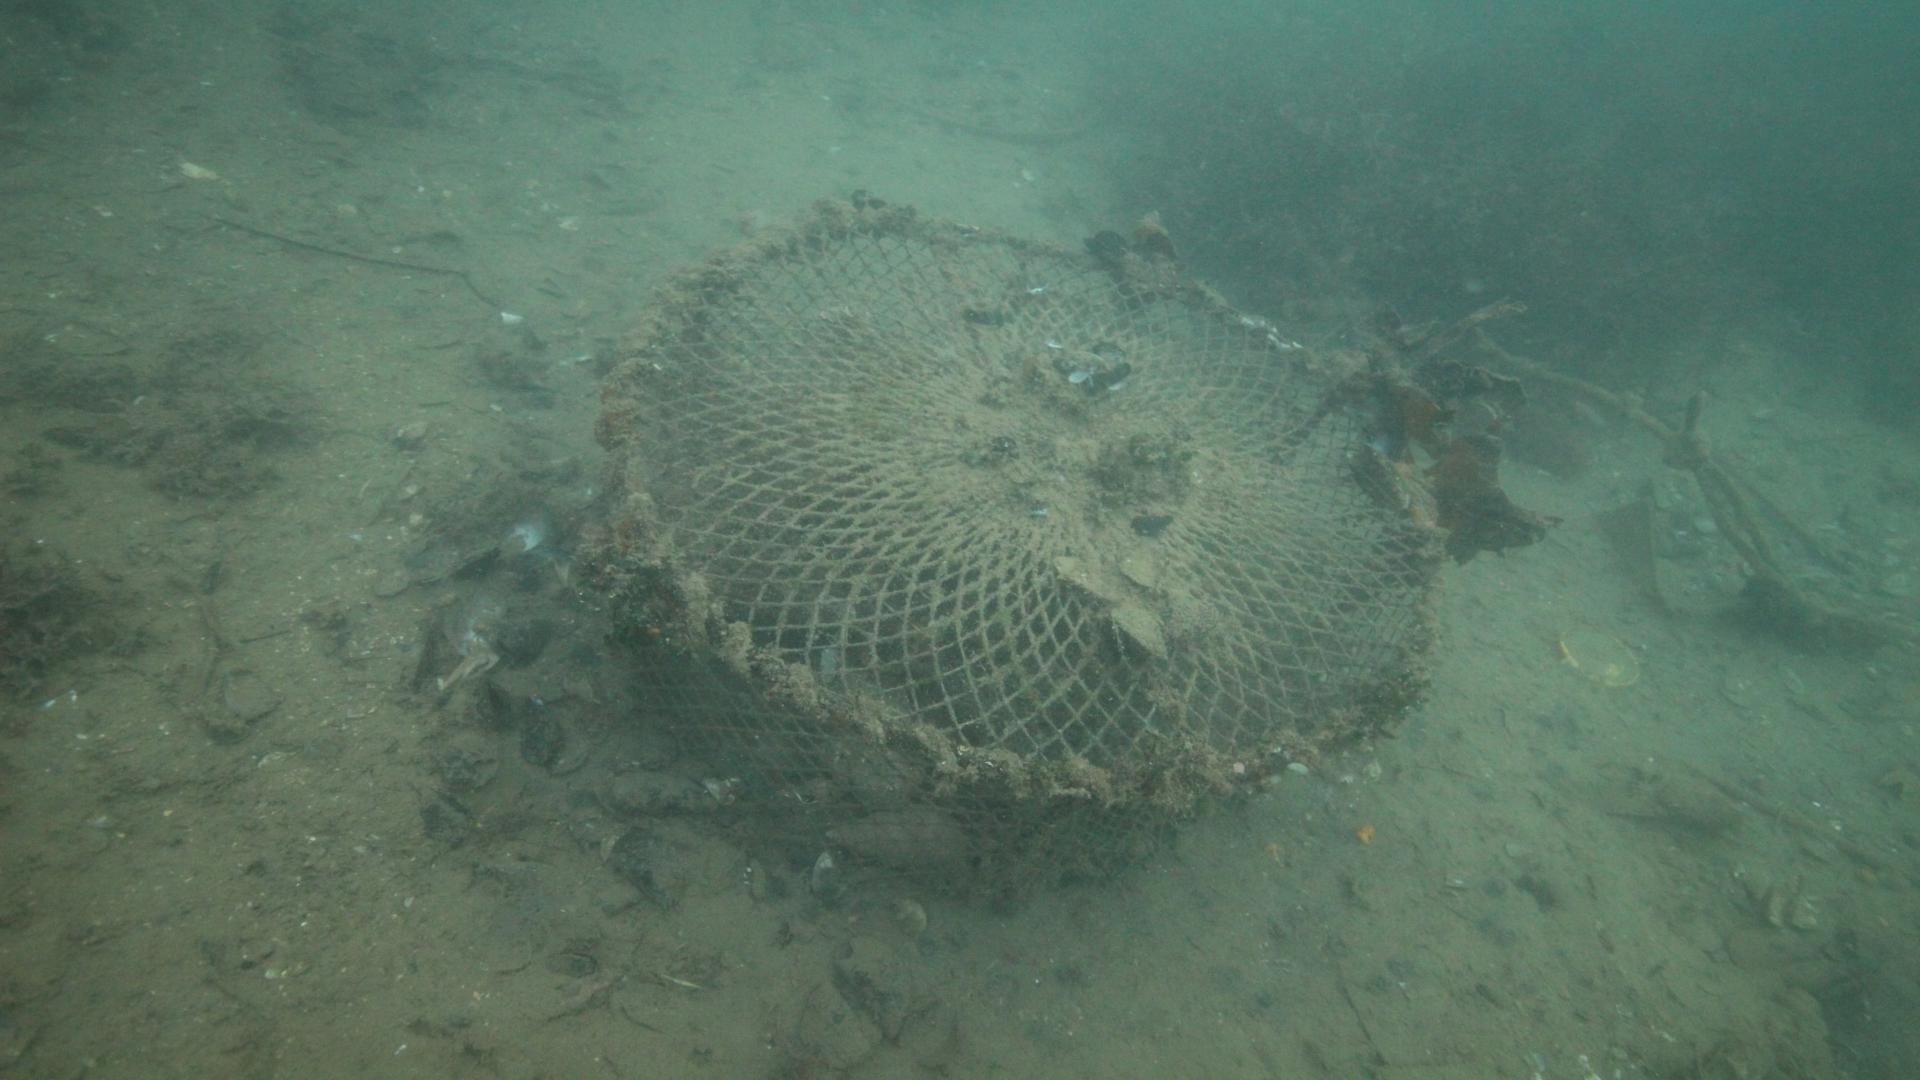circular fish trap: (593, 193, 1443, 910)
